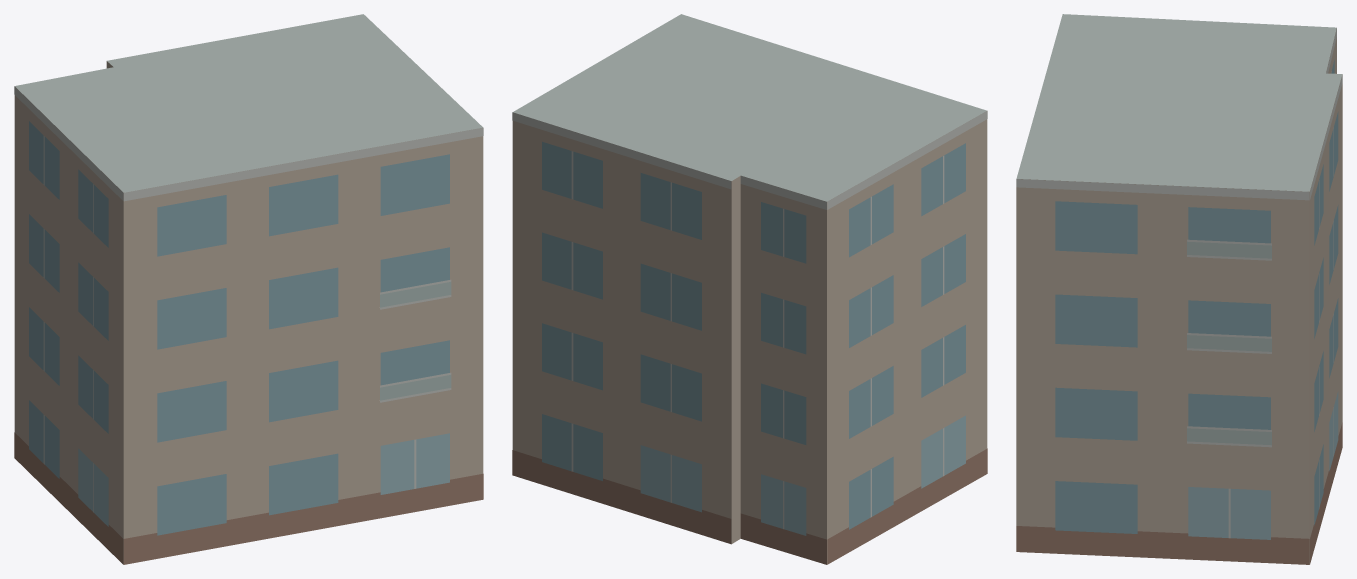
File: survey-upis-32541620.glb
3 views of the same model, side by side, from view 1: azimuth 30°, elevation 25°; view 2: azimuth 150°, elevation 25°; view 3: azimuth 270°, elevation 25° (orthographic). The views are drawn at different scales.
Parts seen in each view (by area): view 1: survey-upis-32541620.tmp; view 2: survey-upis-32541620.tmp; view 3: survey-upis-32541620.tmp.
Part boxes in pixels (x1,y1,x2,y2): survey-upis-32541620.tmp: (14,14,483,564); survey-upis-32541620.tmp: (512,14,987,564); survey-upis-32541620.tmp: (1016,14,1342,564).
Size of the model in its own units: 10.84 by 10.6 by 8.41.
